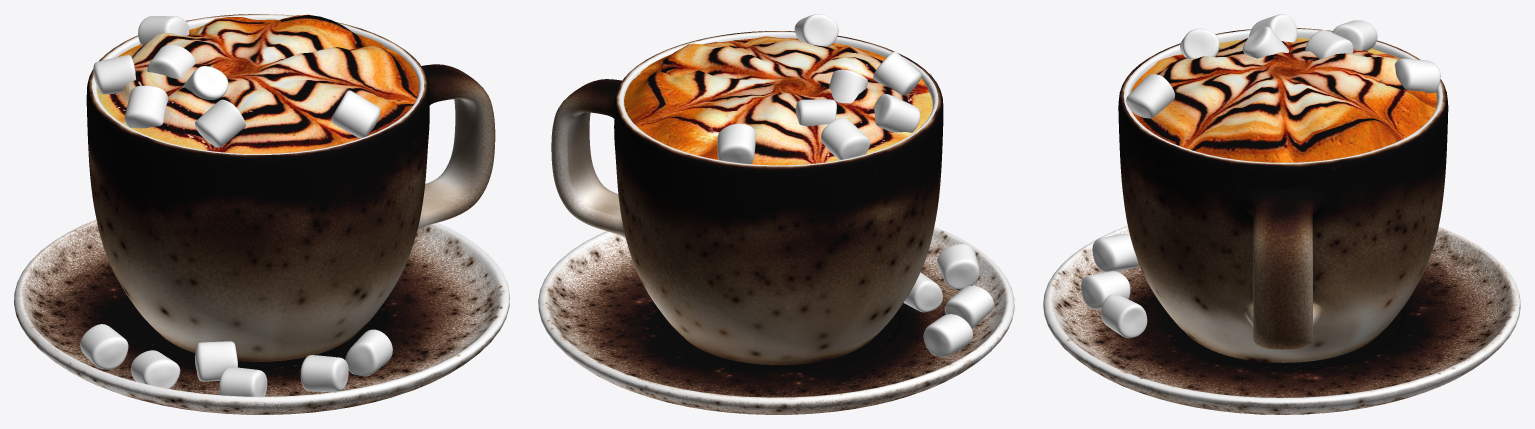
Rendered from cup_of_cappuccino.glb.
3 renders of one model, left to right at view 1: azimuth 30°, elevation 25°; view 2: azimuth 150°, elevation 25°; view 3: azimuth 270°, elevation 25°, orthographic. The views are drawn at different scales.
Visible parts, largest first — view 1: cup_15, plate_16, cappuccino_14, object 1; view 2: cup_15, plate_16, cappuccino_14, object 1; view 3: cup_15, plate_16, cappuccino_14, object 1.
Boxes of the visible parts, bbox=[...] form: cup_15: bbox=[86, 14, 495, 361]; plate_16: bbox=[14, 219, 509, 414]; cappuccino_14: bbox=[97, 14, 418, 153]; object 1: bbox=[80, 16, 392, 396]; cup_15: bbox=[551, 31, 943, 364]; plate_16: bbox=[538, 227, 1014, 414]; cappuccino_14: bbox=[624, 36, 932, 165]; object 1: bbox=[717, 14, 993, 357]; cup_15: bbox=[1118, 28, 1448, 362]; plate_16: bbox=[1043, 226, 1520, 414]; cappuccino_14: bbox=[1130, 38, 1437, 162]; object 1: bbox=[1081, 14, 1440, 338].
Size of the model in its own units: 0.1635 by 0.1 by 0.16.
4 materials, 4 textured.
